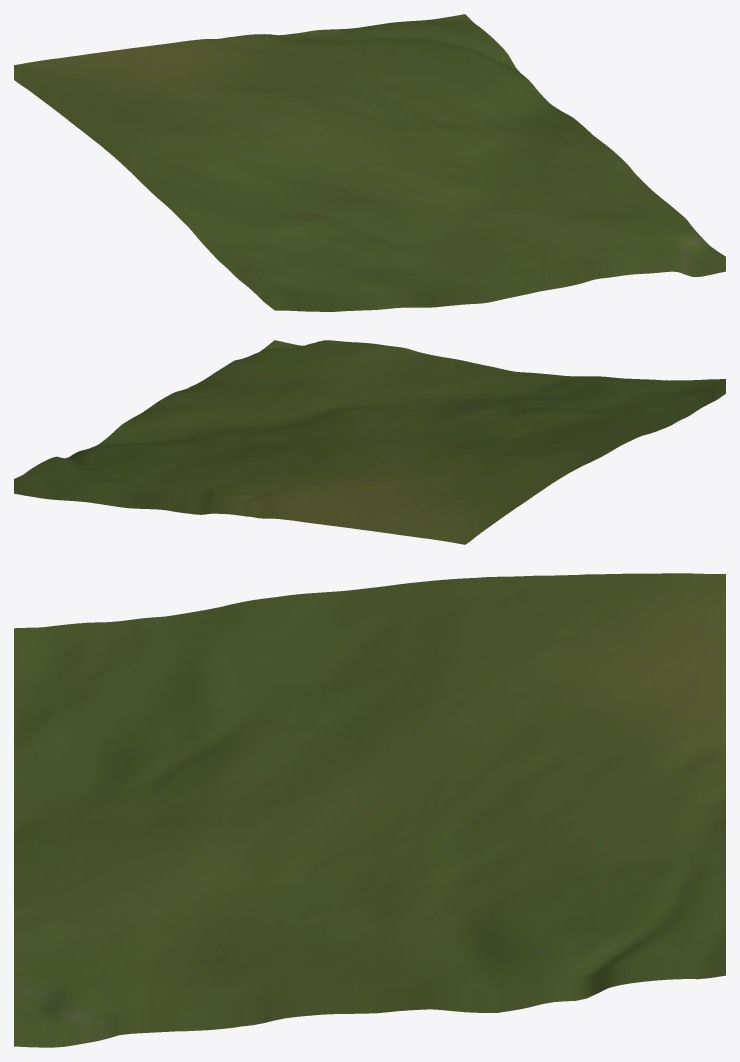
Rendered from terrain_6_-8.glb.
The picture shows the model from 3 angles, top to bottom: view 1: azimuth 30°, elevation 25°; view 2: azimuth 150°, elevation 25°; view 3: azimuth 270°, elevation 25°; orthographic projection. The views are drawn at different scales.
Visible parts, largest first — view 1: terrain_6_-8; view 2: terrain_6_-8; view 3: terrain_6_-8.
Boxes of the visible parts, <box> form: terrain_6_-8: <box>14,14,725,311</box>; terrain_6_-8: <box>14,340,725,544</box>; terrain_6_-8: <box>14,573,725,1047</box>.
Bounding box in the file's own units: 256 × 68.77 × 256.
